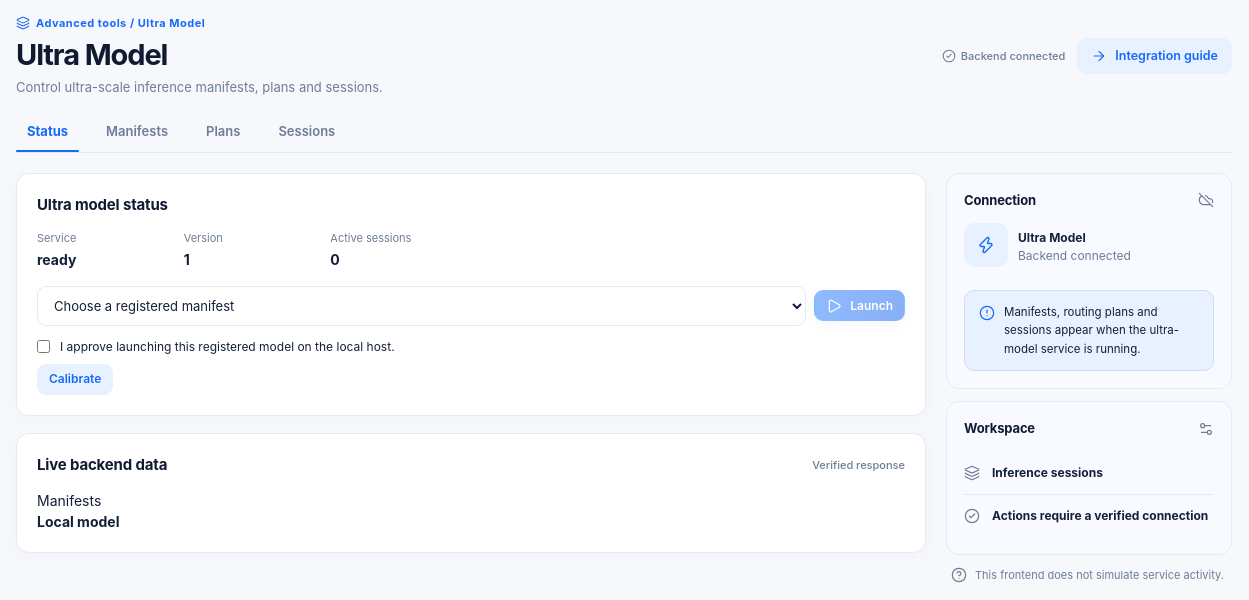
Scenario: Advanced Live workspace actions › launches an Ultra Model registered manifest only after explicit local launch approval
This screenshot has width=1249, height=600.
Select "Local model" in the dropdown named "Manifest to launch": (422, 306) [37,286,806,326]
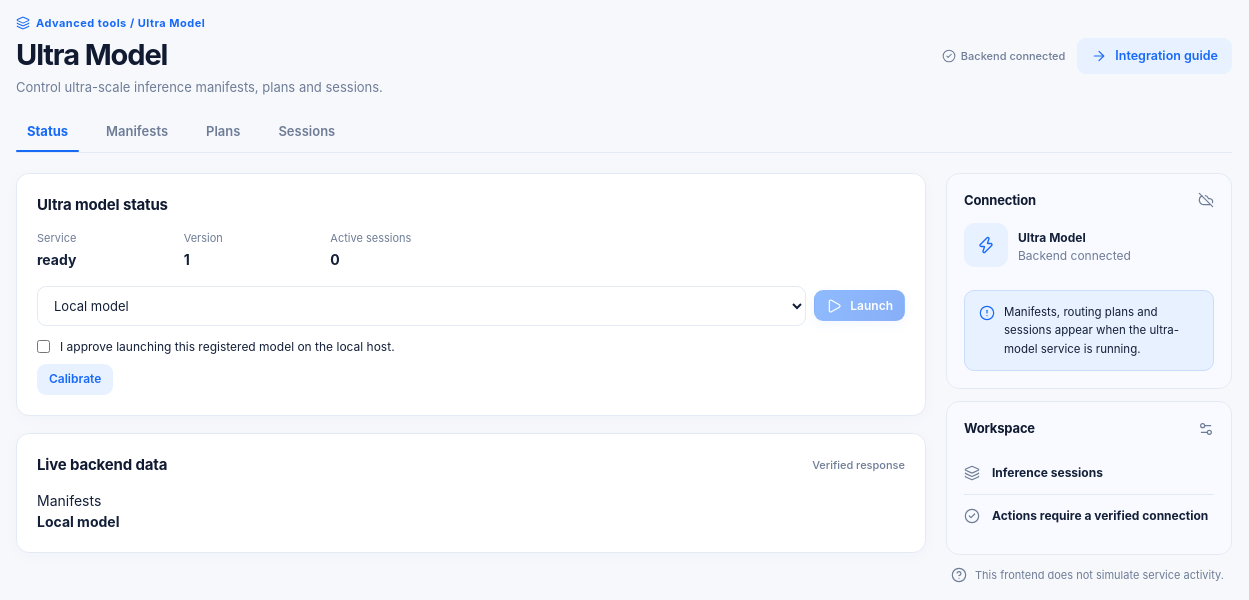
Expected: the button "Launch" is disabled, [814,290,905,321]
Click the checkbox labelled "I approve launching this registered model on the local host.": (44, 346) [37,340,50,353]
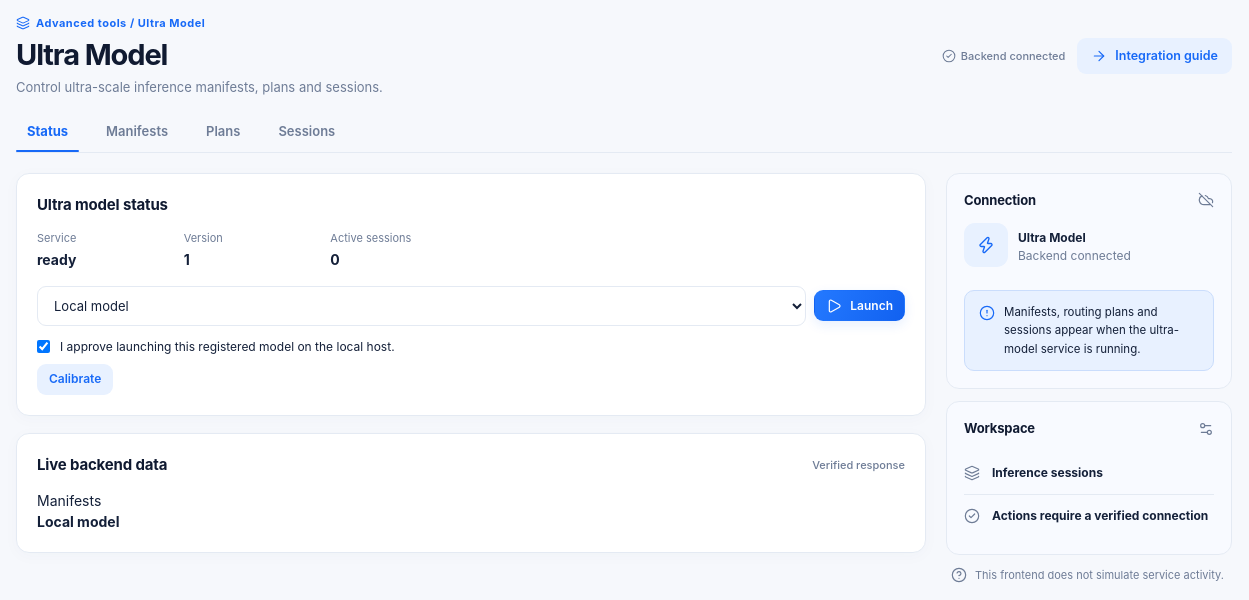
Now the button "Launch" is enabled
Click the button "Launch": (860, 306) [814,290,905,321]
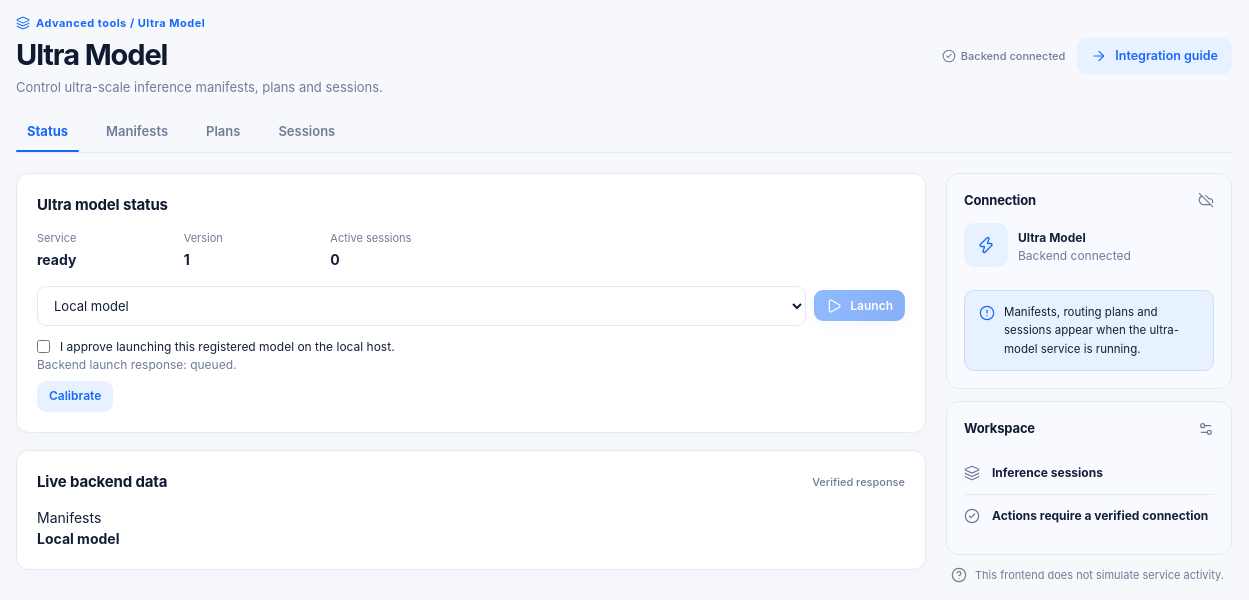
Now the text "Backend launch response: queued." is shown, box [37,356,236,372]
